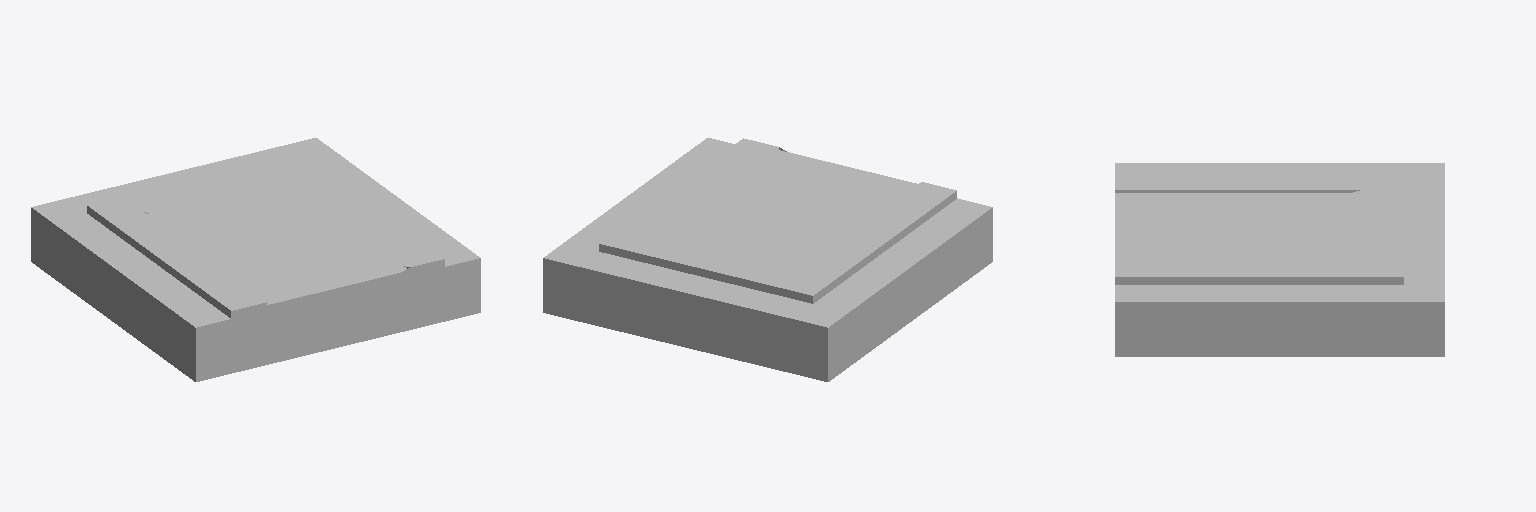
The model's file is roadTile_0382.obj.
3 views of the same model, side by side, from view 1: azimuth 30°, elevation 25°; view 2: azimuth 150°, elevation 25°; view 3: azimuth 270°, elevation 25° (orthographic).
Visible parts, largest first — view 1: Mesh1_Group1_Model.001; view 2: Mesh1_Group1_Model.001; view 3: Mesh1_Group1_Model.001.
Part boxes in pixels (left/top/right/bottom): Mesh1_Group1_Model.001: left=31, top=138, right=480, bottom=381; Mesh1_Group1_Model.001: left=543, top=138, right=992, bottom=381; Mesh1_Group1_Model.001: left=1115, top=163, right=1444, bottom=356.
Bounding box in the file's own units: 1.08 × 0.2268 × 1.08.